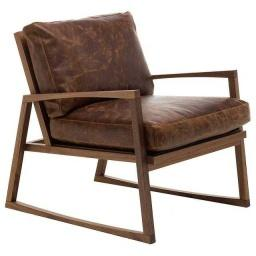Chair: (5, 13, 251, 245)
